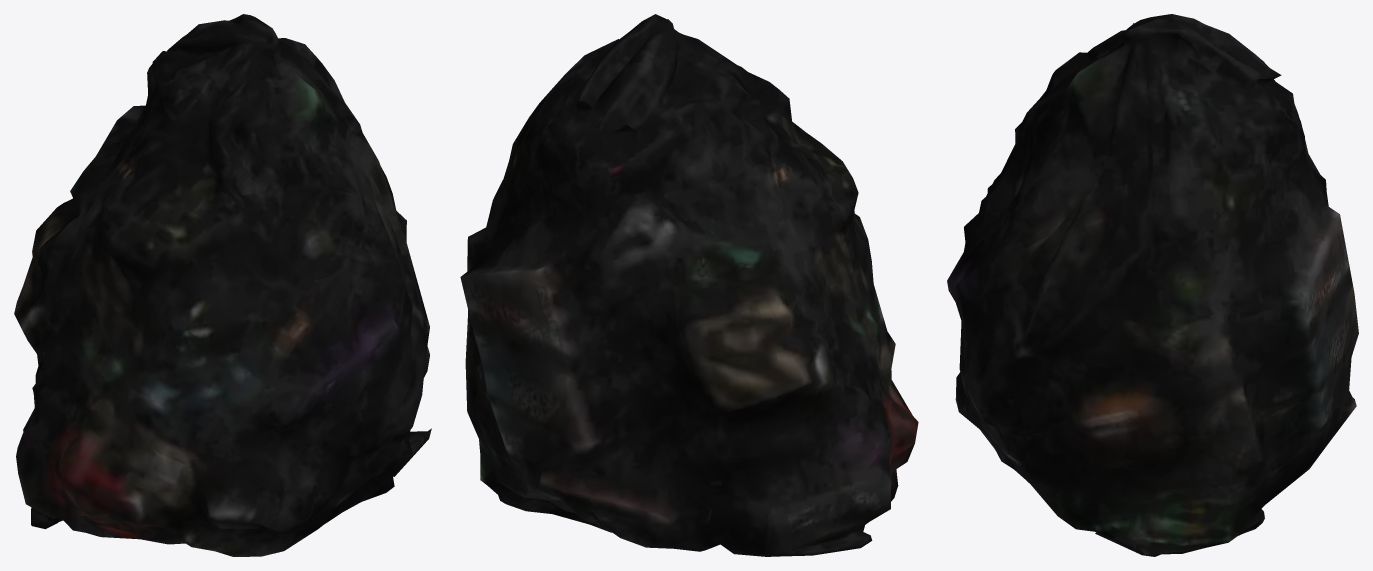
Rendered from trashbag.glb.
3 renders of one model, left to right at view 1: azimuth 30°, elevation 25°; view 2: azimuth 150°, elevation 25°; view 3: azimuth 270°, elevation 25°, orthographic. The views are drawn at different scales.
Visible parts, largest first — view 1: trashbag; view 2: trashbag; view 3: trashbag.
Part boxes in pixels (x1,y1,x2,y2): trashbag: [14, 14, 431, 556]; trashbag: [460, 14, 918, 556]; trashbag: [947, 14, 1358, 556].
Bounding box in the file's own units: 0.5281 × 0.575 × 0.4629.
Materials: 1 (1 with a texture image).
